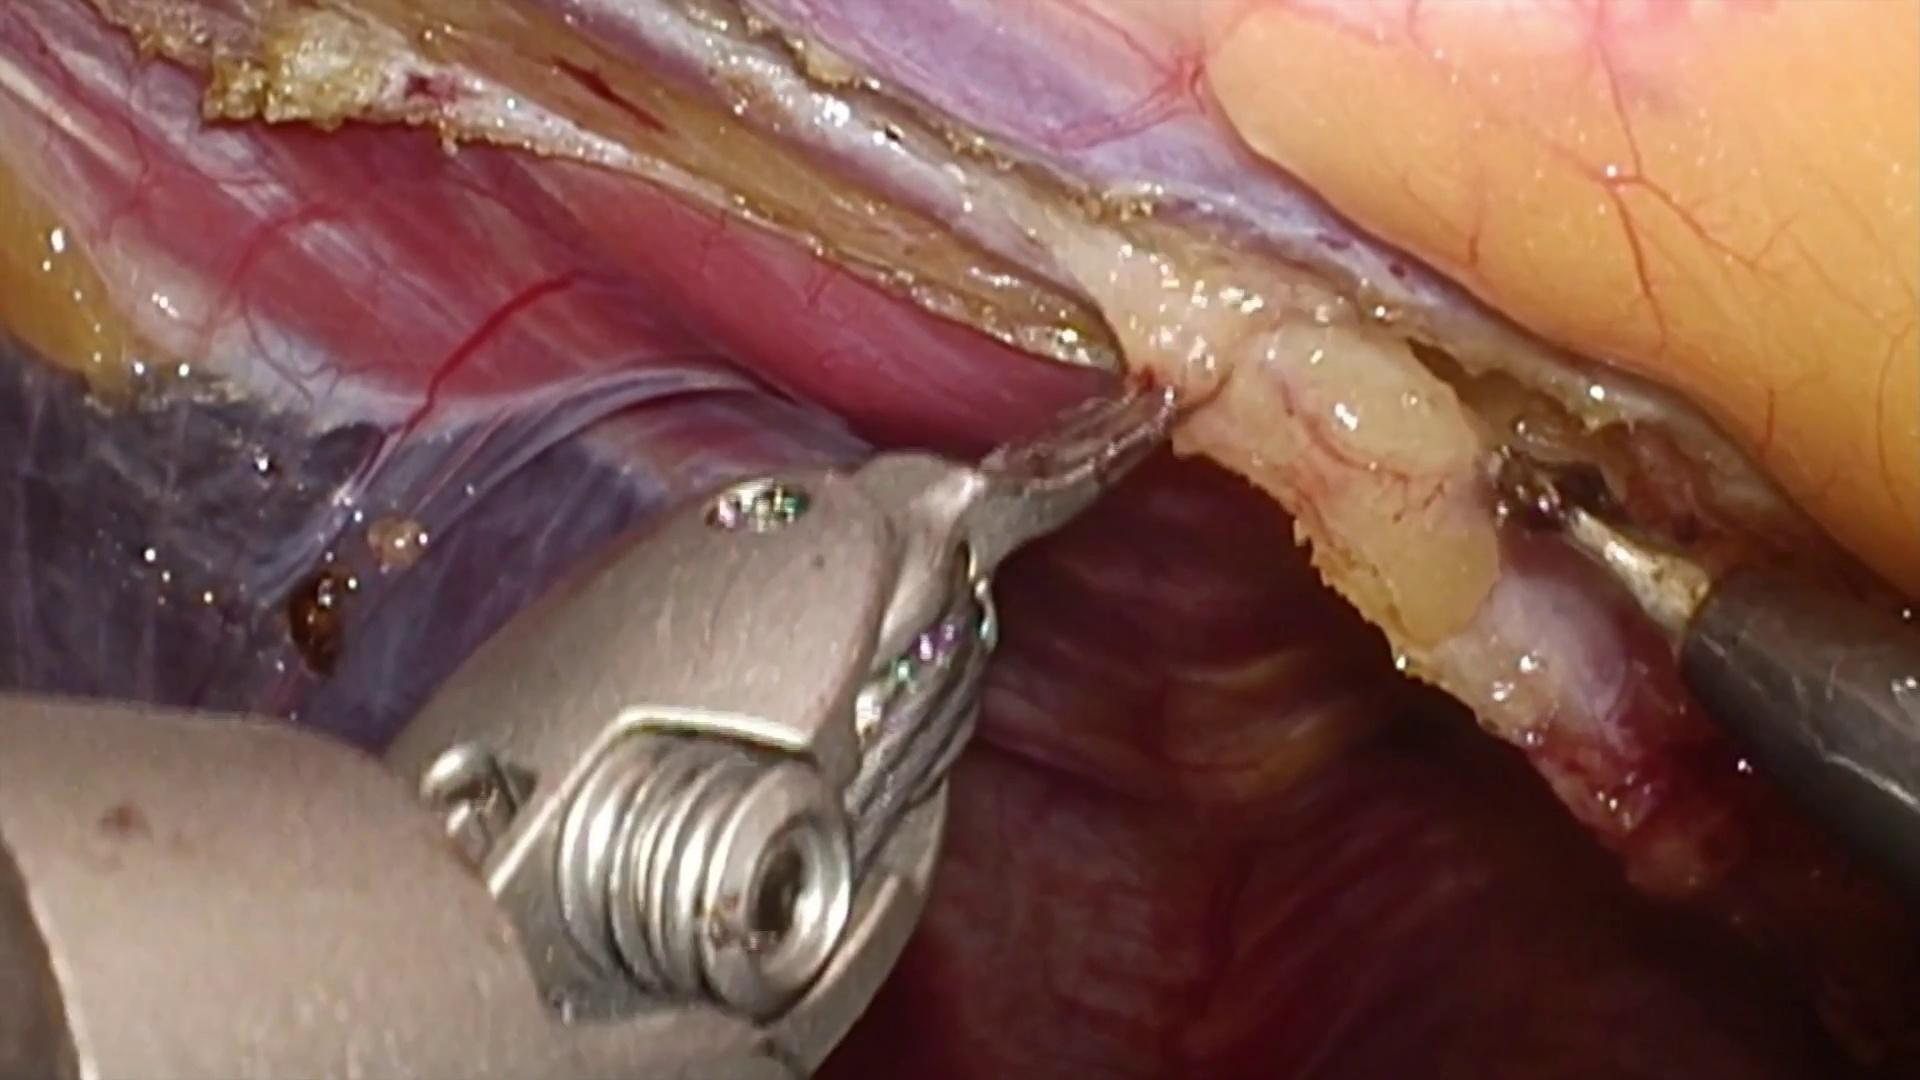Cautery_Spatula: (1486, 444, 1920, 924)
Debakey: (870, 344, 1203, 613)
